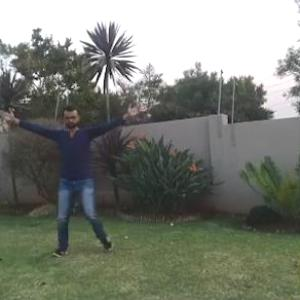takeoff: (7, 99, 155, 256)
